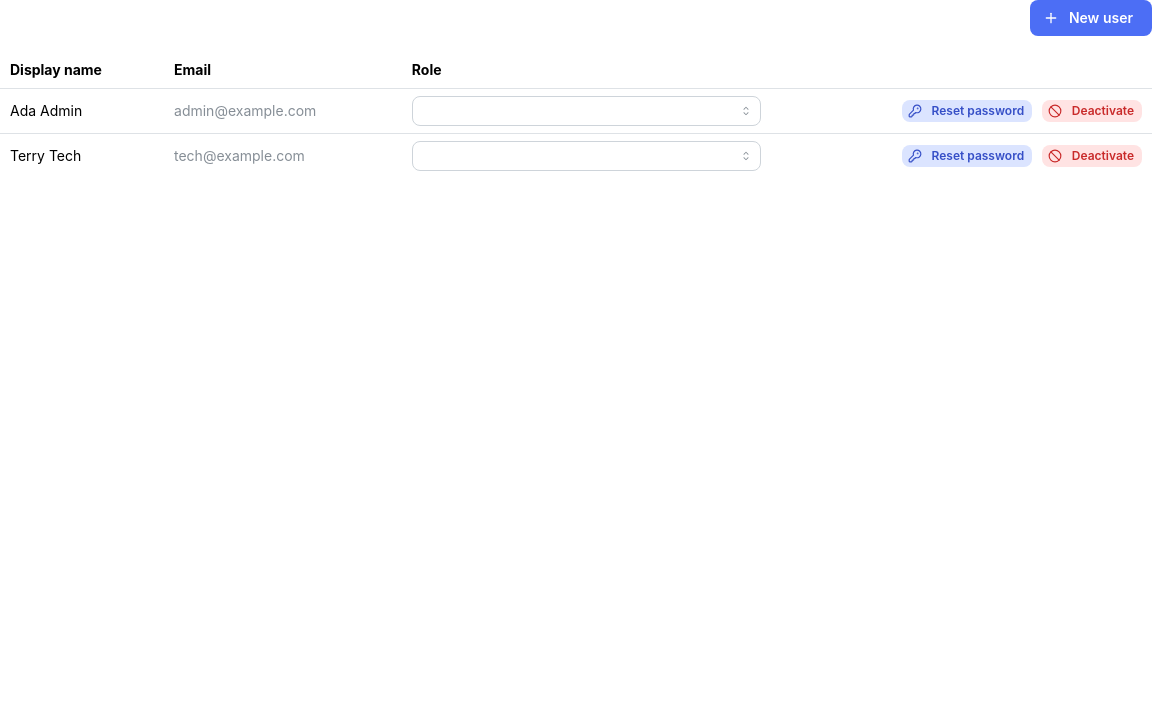
UsersAdmin › resets a password and surfaces the returned temp password
Click the button "Reset password" in the row of "Terry Tech" at (967, 156), box [902,145,1032,167]
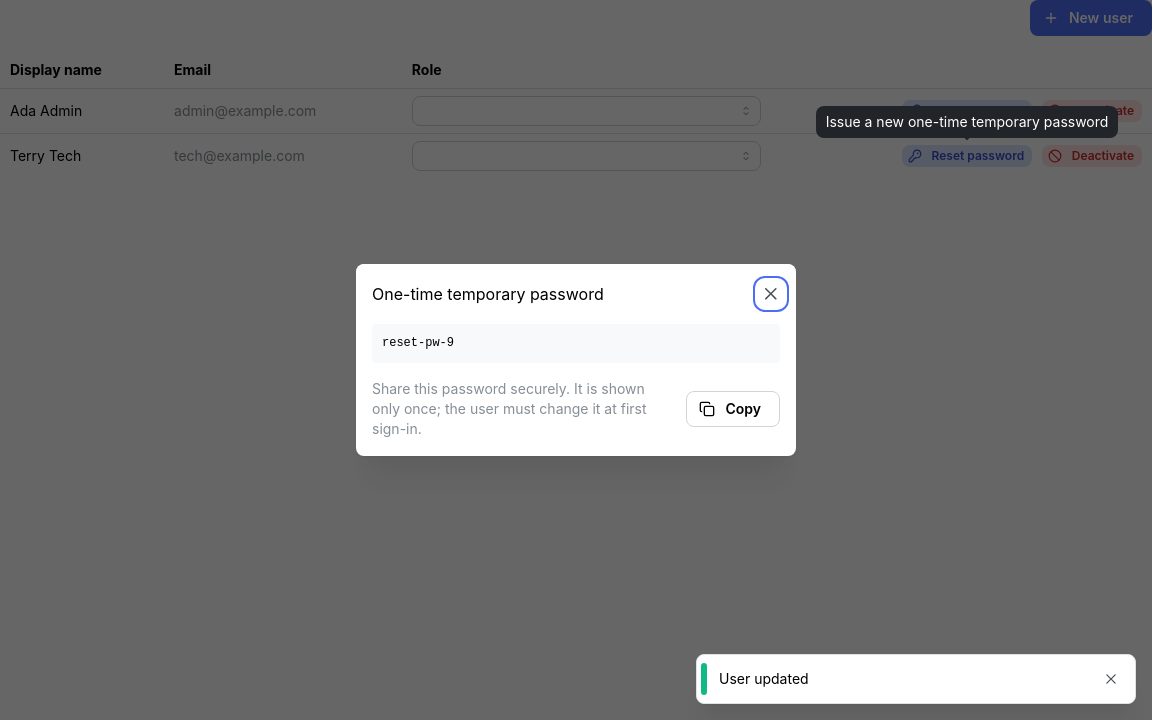
Expected: the text "reset-pw-9" is shown, [372,324,780,363]
